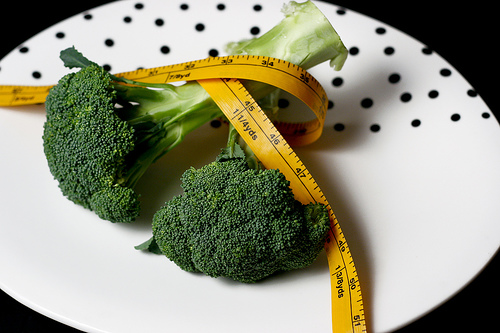broccoli: (42, 1, 341, 222), (133, 40, 332, 284)
